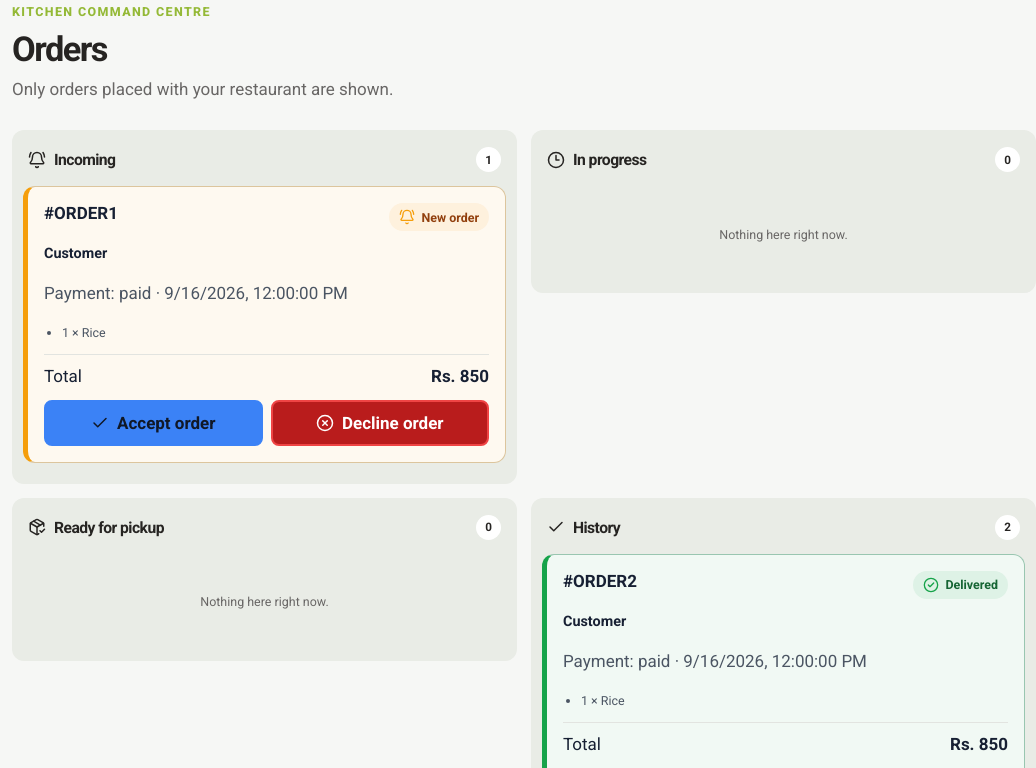
Test: keeps the confirmed response if the following refresh fails
The width and height of the screenshot is (1036, 768).
Click the button "Accept order": (153, 423) x1=44 y1=400 x2=262 y2=446
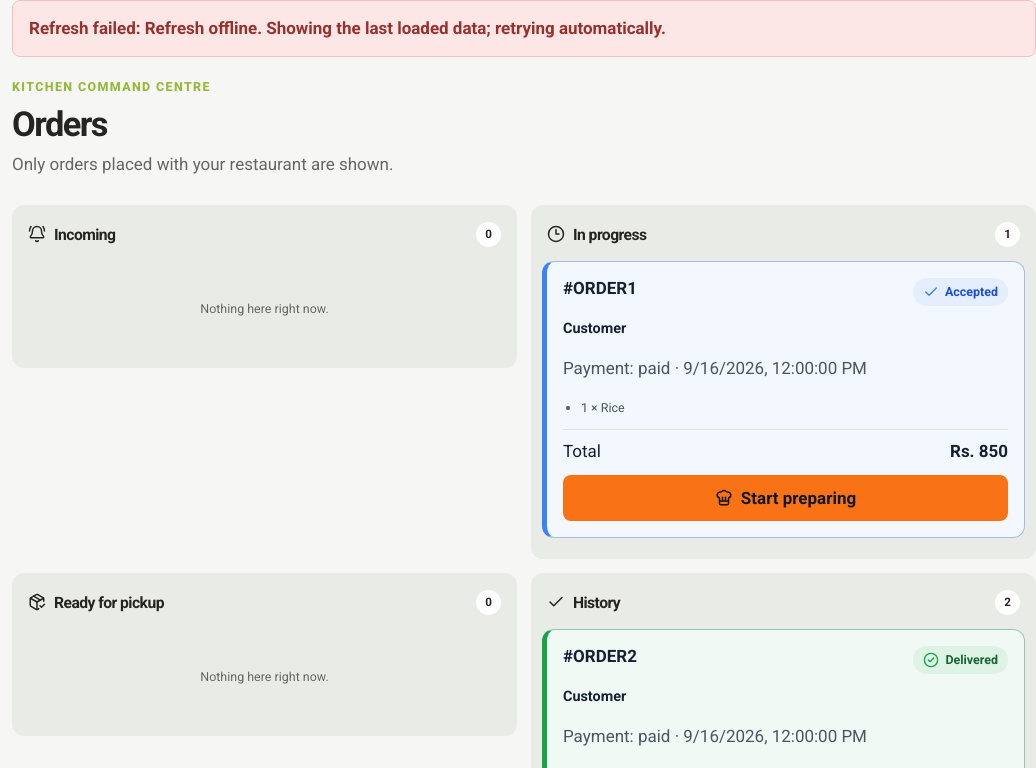
Expected: the text "Refresh offline" is shown, x1=145 y1=18 x2=257 y2=38
Expected: the button "Start preparing" is shown, x1=563 y1=475 x2=1008 y2=521
